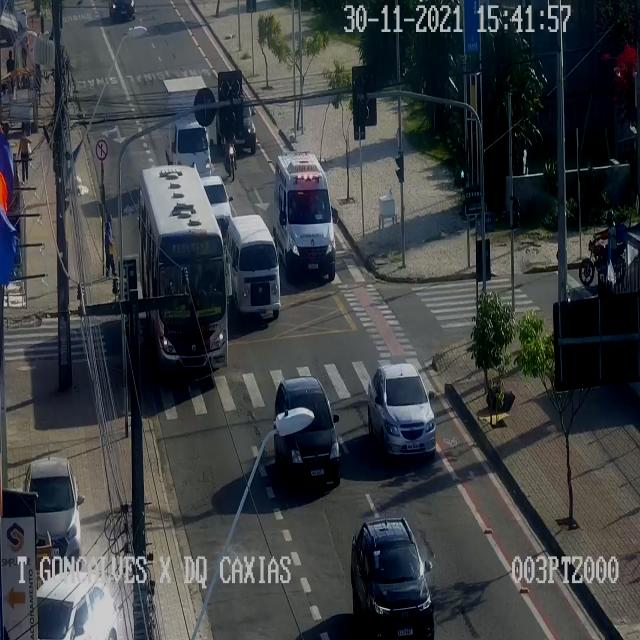Bus: (140, 164, 230, 383)
Car: (353, 516, 435, 639), (275, 152, 339, 280), (274, 375, 342, 490), (366, 360, 440, 459), (25, 458, 87, 562), (226, 212, 282, 322), (35, 574, 117, 639), (104, 0, 140, 26)
Motorcycle: (578, 211, 630, 285)
Truck: (162, 76, 210, 172)
